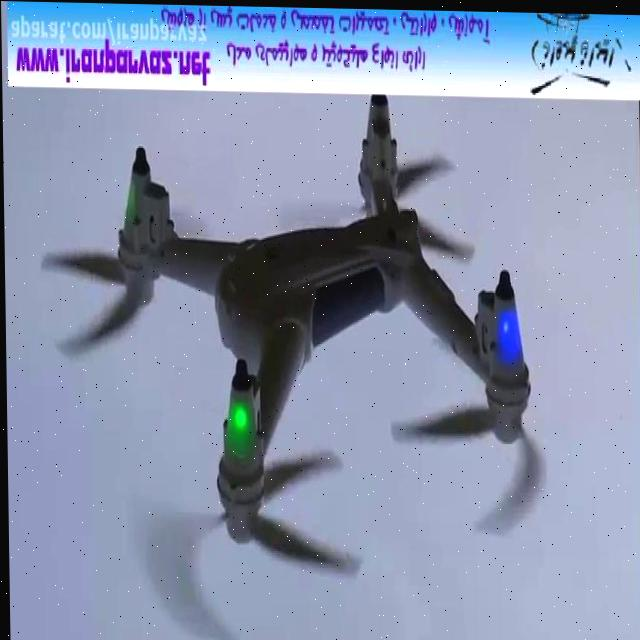drone: (31, 89, 551, 640)
